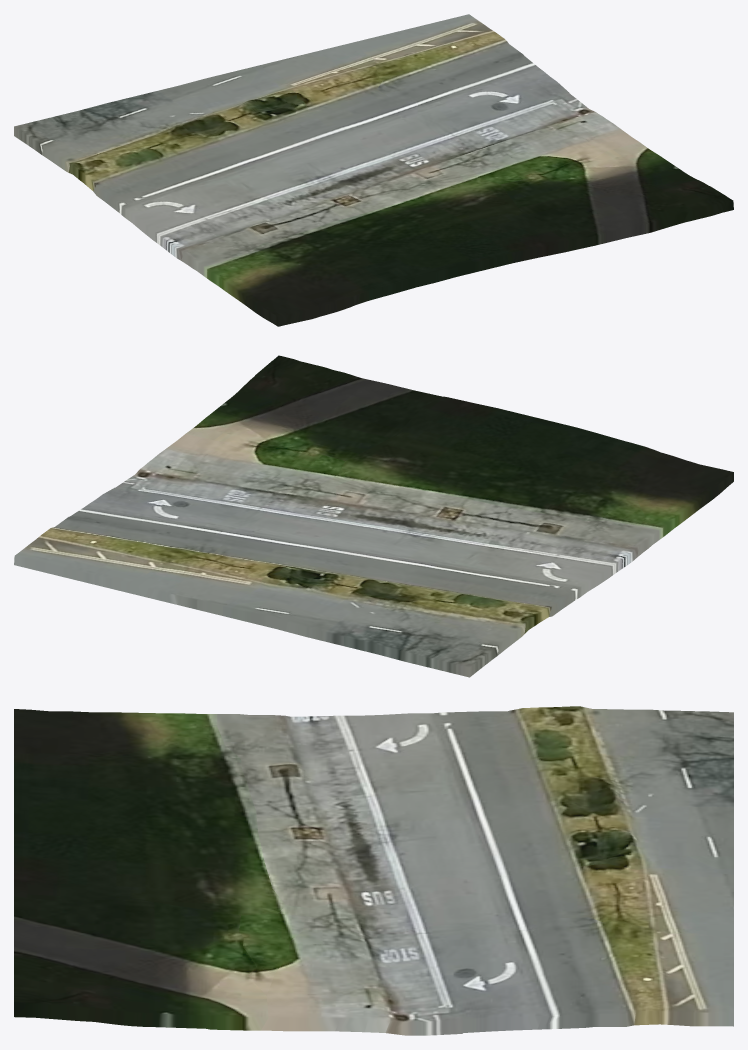
Rendered from z20-167781-405218-h0-yup-uvflip-v3-world.glb.
3 views of the same model, one above another, from view 1: azimuth 30°, elevation 25°; view 2: azimuth 150°, elevation 25°; view 3: azimuth 270°, elevation 25° (orthographic). The views are drawn at different scales.
Bounding box in the file's own units: 30.2 × 1.52 × 30.32.
1 material, 1 textured.
